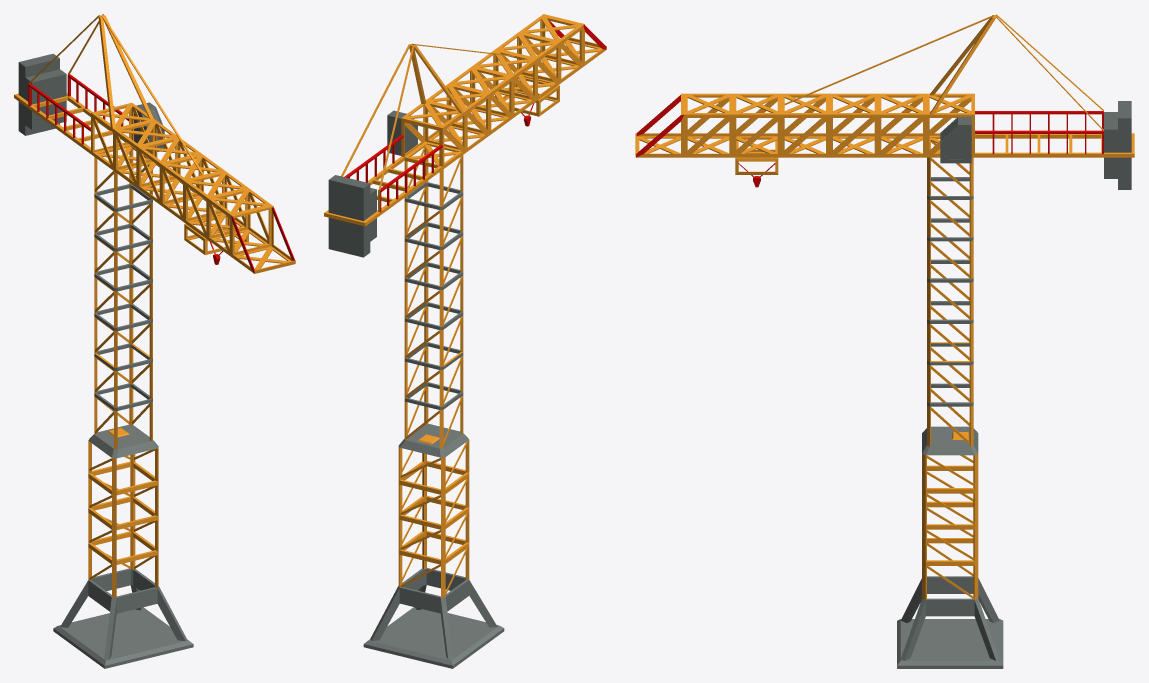
The model's file is SM_crane_01_001.glb.
3 views of the same model, side by side, from view 1: azimuth 30°, elevation 25°; view 2: azimuth 150°, elevation 25°; view 3: azimuth 270°, elevation 25° (orthographic). The views are drawn at different scales.
Parts seen in each view (by area): view 1: SM_crane_01.001; view 2: SM_crane_01.001; view 3: SM_crane_01.001.
Part boxes in pixels (x1,y1,x2,y2): SM_crane_01.001: (14, 14, 295, 668); SM_crane_01.001: (324, 14, 606, 668); SM_crane_01.001: (635, 14, 1134, 668).
Bounding box in the file's own units: 2 × 13.09 × 9.39.
1 material, 1 textured.
